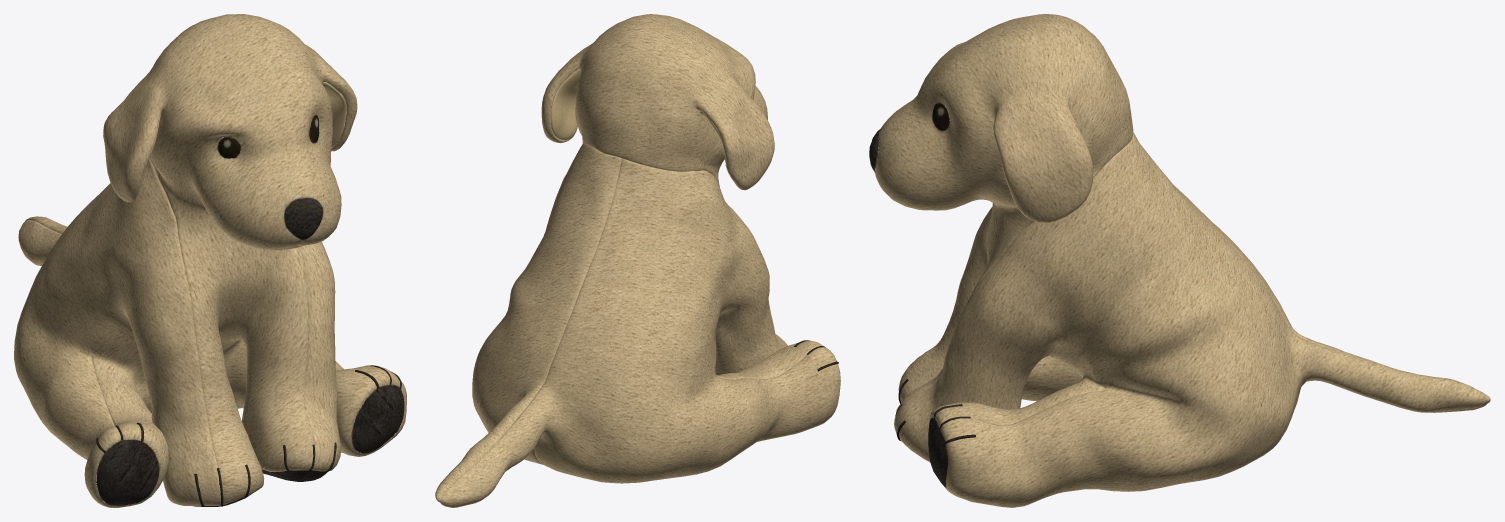
Rendered from gosig_golden_pluszak_00132798.glb.
3 renders of one model, left to right at view 1: azimuth 30°, elevation 25°; view 2: azimuth 150°, elevation 25°; view 3: azimuth 270°, elevation 25°, orthographic. The views are drawn at different scales.
Parts seen in each view (by area): view 1: gosig_golden_pluszak_00132798; view 2: gosig_golden_pluszak_00132798; view 3: gosig_golden_pluszak_00132798.
Boxes of the visible parts, x1,y1,x2,y2 form: gosig_golden_pluszak_00132798: (14,14,406,507); gosig_golden_pluszak_00132798: (435,14,840,507); gosig_golden_pluszak_00132798: (869,14,1490,507).
Size of the model in its own units: 0.2973 by 0.4025 by 0.5187.
Materials: 1 (1 with a texture image).
